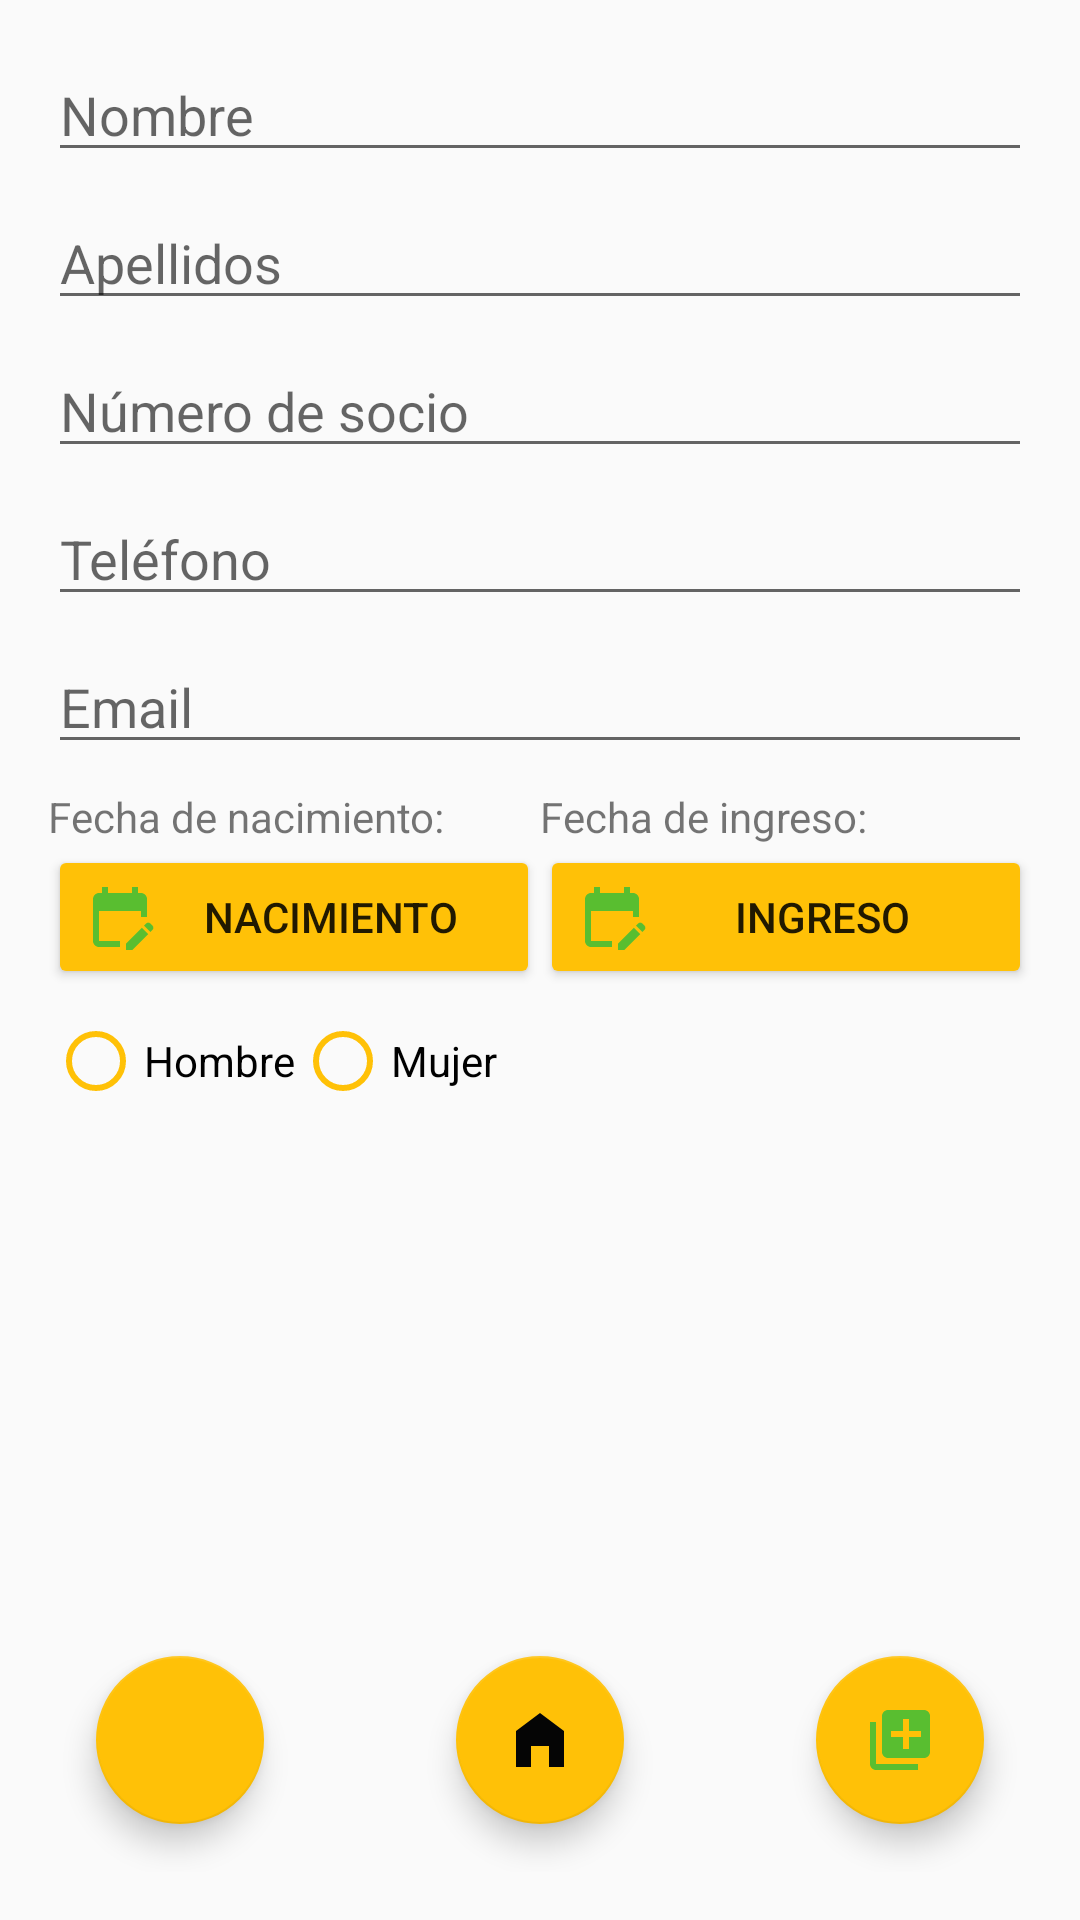

Where icons sit on this 1080×1920 app screen, as (x1, y1, x2, y2):
guardar: (816, 1656, 984, 1824)
home: (456, 1656, 624, 1824)
